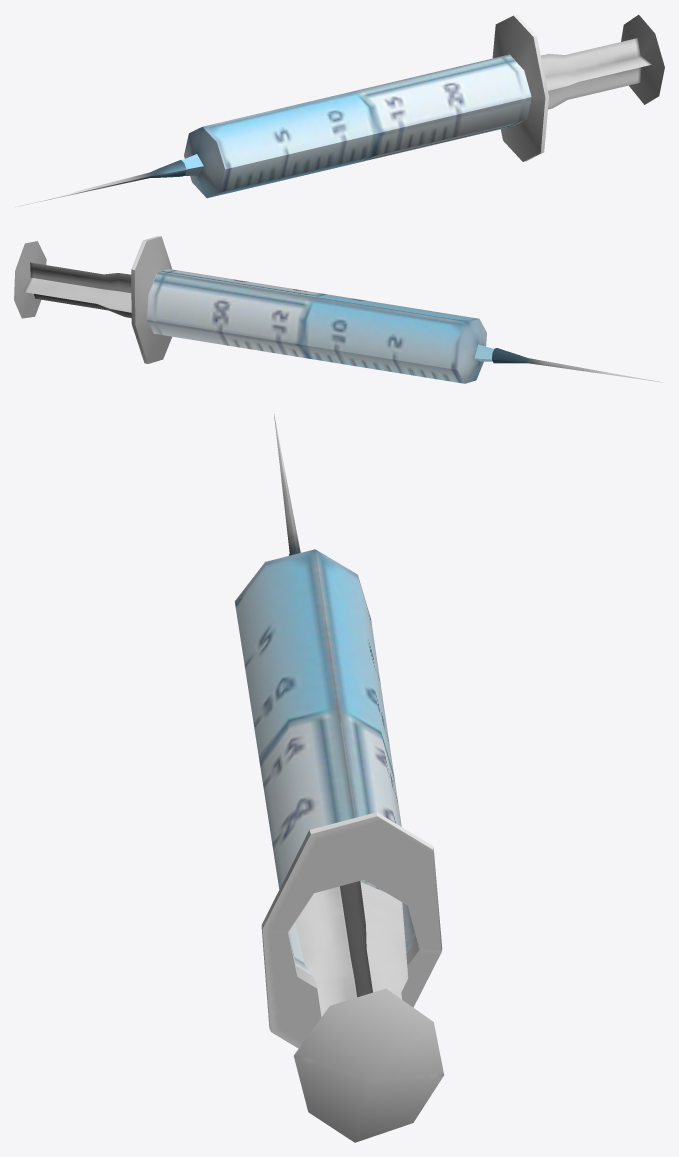
The model's file is CeSuo_01_zhusheqi_01.FBX.
3 views of the same model, one above another, from view 1: azimuth 30°, elevation 25°; view 2: azimuth 150°, elevation 25°; view 3: azimuth 270°, elevation 25° (orthographic). The views are drawn at different scales.
Parts seen in each view (by area): view 1: CeSuo_01_zhusheqi_01; view 2: CeSuo_01_zhusheqi_01; view 3: CeSuo_01_zhusheqi_01.
Part boxes in pixels (x1=…): CeSuo_01_zhusheqi_01: x1=18, y1=14, x2=664, y2=206; CeSuo_01_zhusheqi_01: x1=14, y1=236, x2=660, y2=383; CeSuo_01_zhusheqi_01: x1=234, y1=414, x2=443, y2=1142.
Bounding box in the file's own units: 101 × 19.52 × 14.6.
